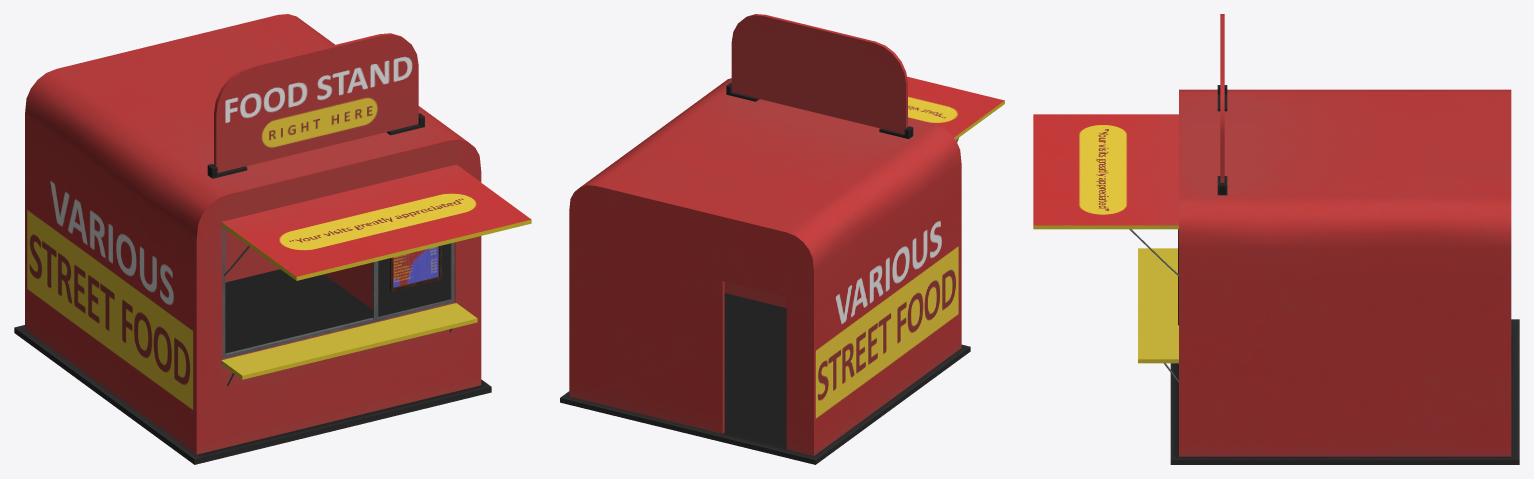
The model's file is foodkiosk.glb.
The picture shows the model from 3 angles, left to right: view 1: azimuth 30°, elevation 25°; view 2: azimuth 150°, elevation 25°; view 3: azimuth 270°, elevation 25°; orthographic projection. The views are drawn at different scales.
Parts seen in each view (by area): view 1: base; view 2: base; view 3: base.
Boxes of the visible parts, box(x1,y1,x2,y2) form: base: box(14, 14, 531, 464); base: box(560, 14, 1004, 464); base: box(1033, 14, 1519, 464).
Size of the model in its own units: 16.06 by 18.52 by 23.52.
4 materials, 4 textured.
